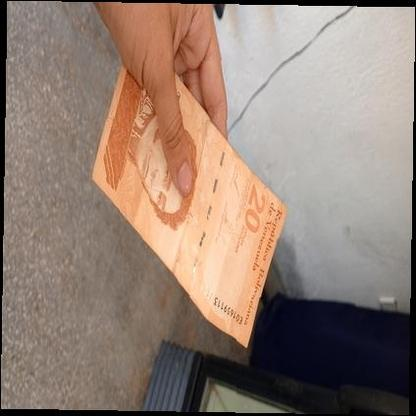vef_front: (92, 62, 286, 348)
